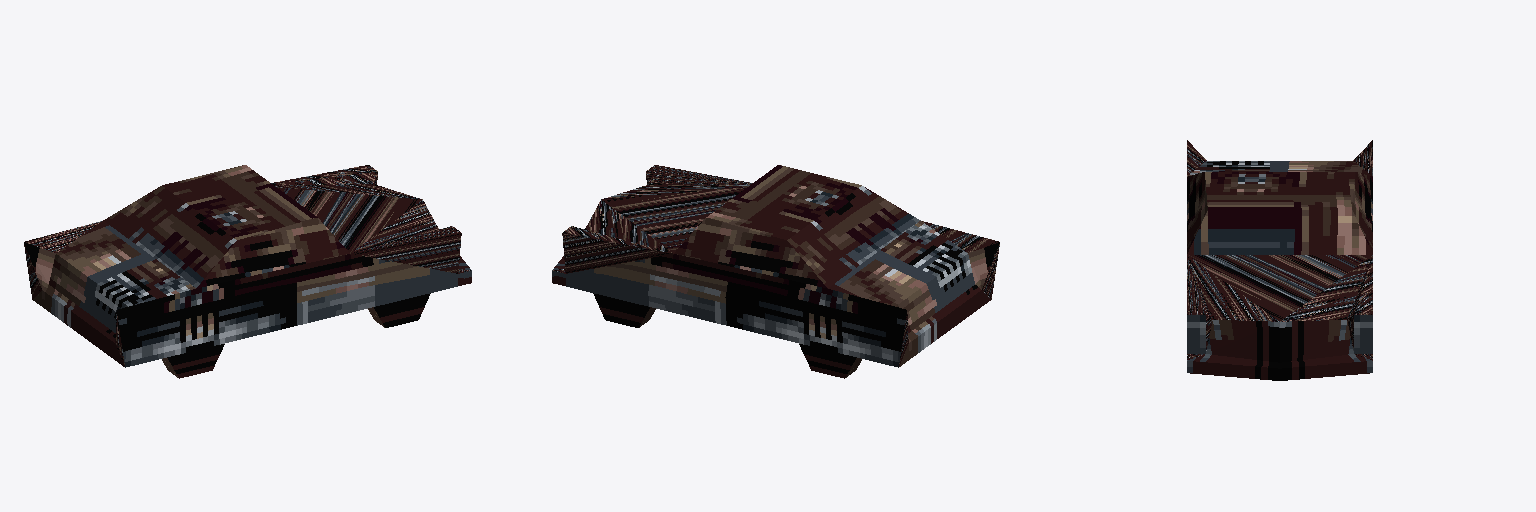
3 renders of one model, left to right at view 1: azimuth 30°, elevation 25°; view 2: azimuth 150°, elevation 25°; view 3: azimuth 270°, elevation 25°, orthographic.
Bounding box in the file's own units: 4.34 × 1.31 × 1.88.
Materials: 1 (1 with a texture image).